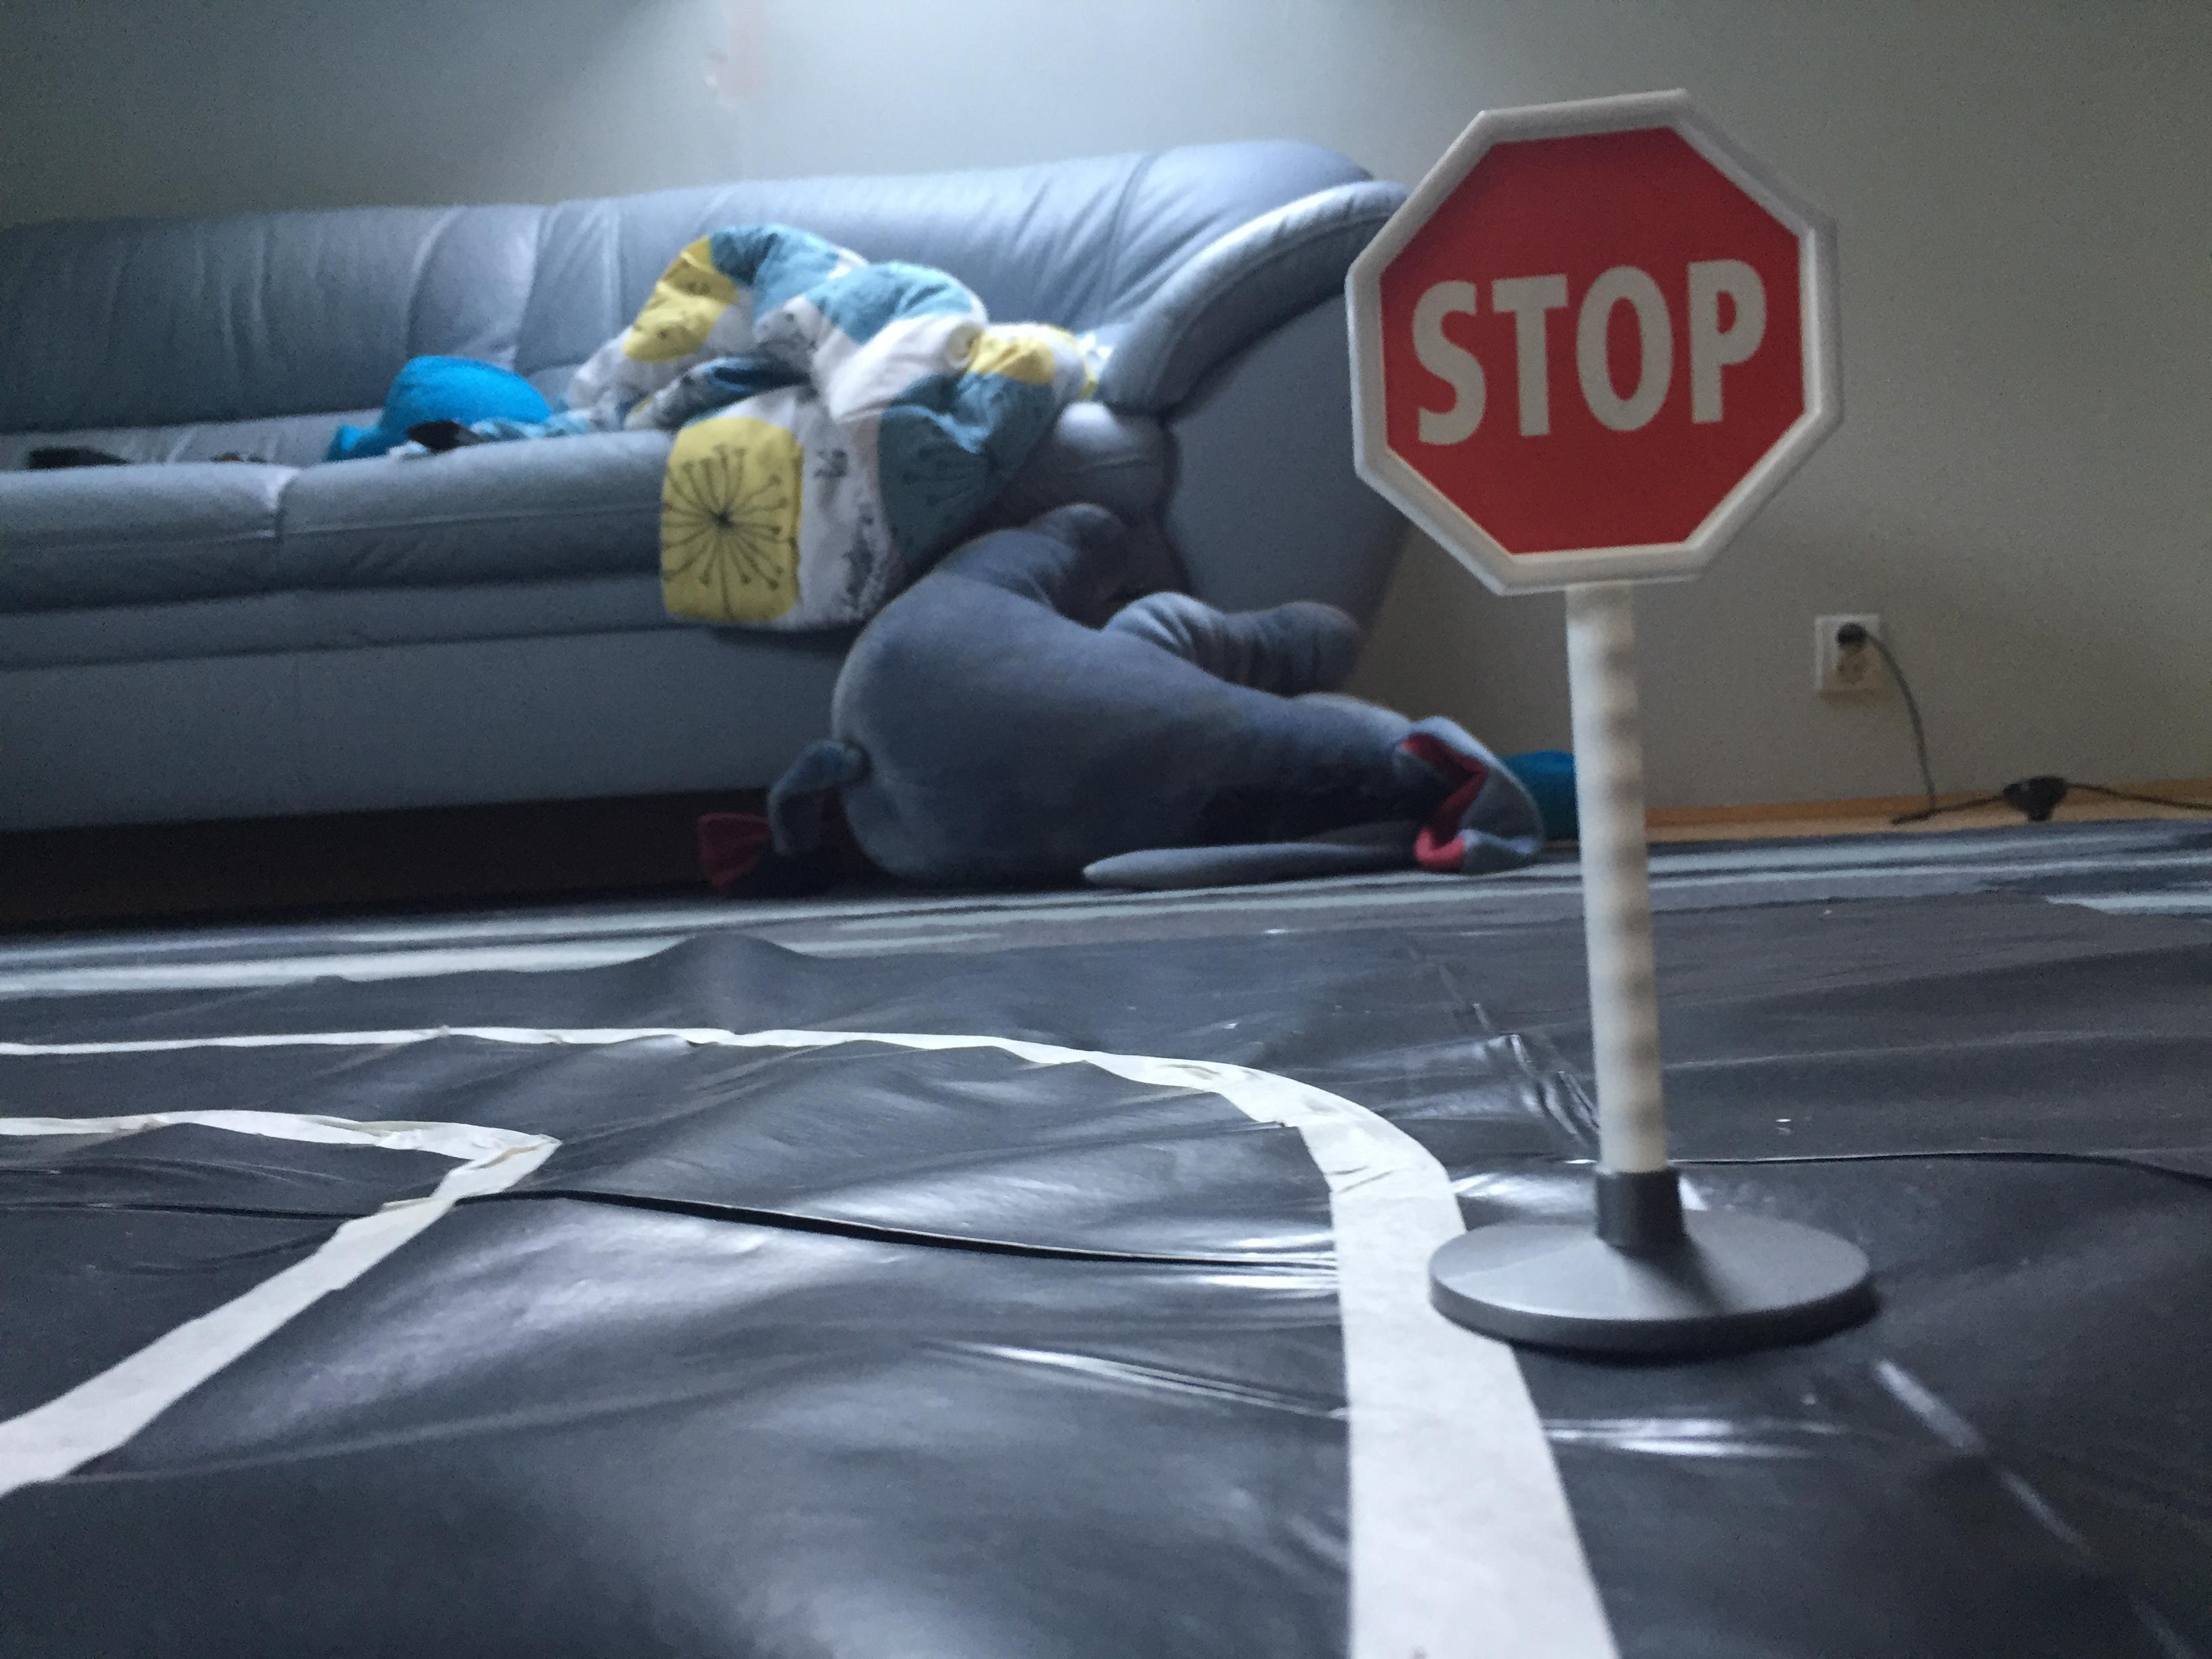stop: (1329, 77, 1862, 612)
